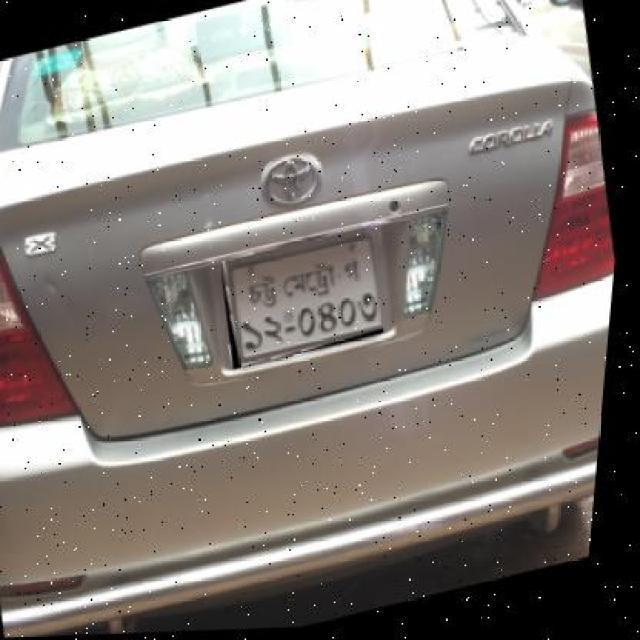numberplate: (139, 181, 451, 379), (221, 229, 388, 367)
